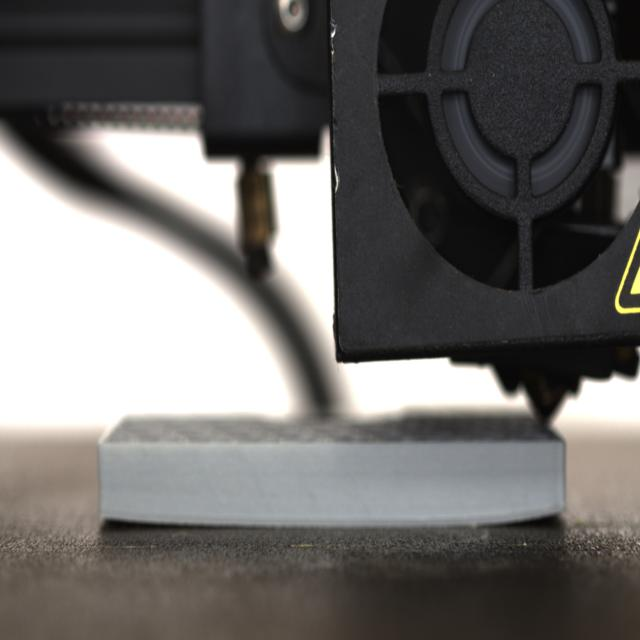Warping: (92, 505, 171, 536)
